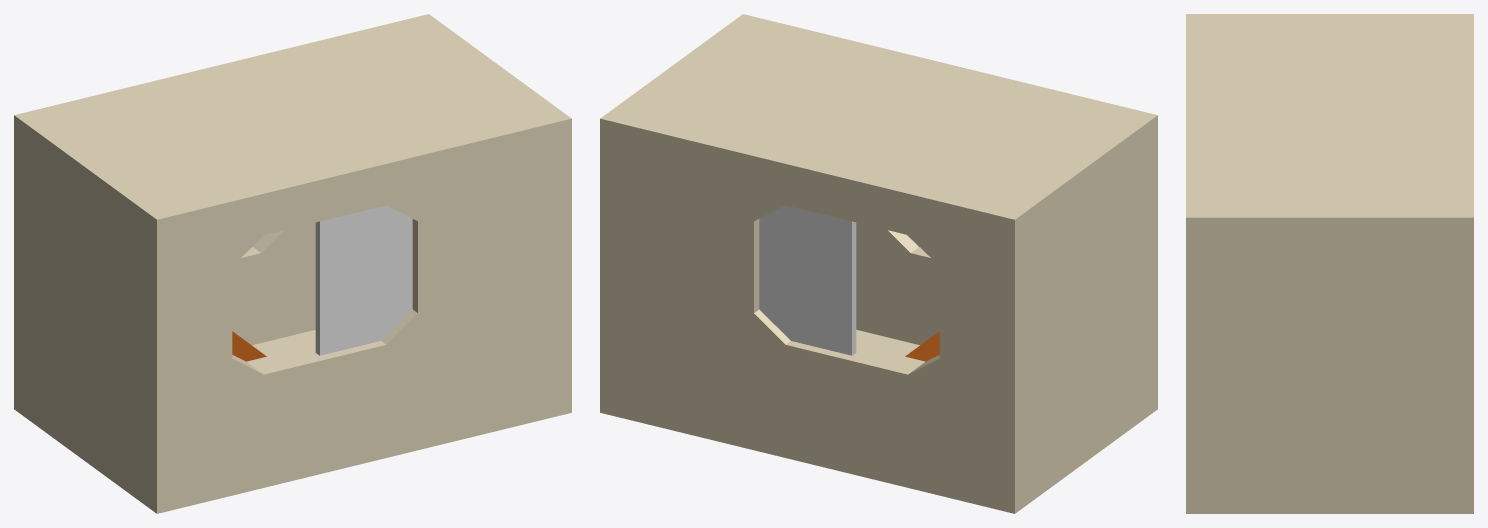
Rendered from VentanillaTaduralacosa.fbx.
3 views of the same model, side by side, from view 1: azimuth 30°, elevation 25°; view 2: azimuth 150°, elevation 25°; view 3: azimuth 270°, elevation 25° (orthographic).
Visible parts, largest first — view 1: Cube.001, Cube.004; view 2: Cube.001, Cube.004; view 3: Cube.001.
Boxes of the visible parts, left/top/right/bottom form: Cube.001: left=14, top=14, right=571, bottom=513; Cube.004: left=252, top=205, right=412, bottom=355; Cube.001: left=600, top=14, right=1157, bottom=513; Cube.004: left=759, top=205, right=919, bottom=355; Cube.001: left=1186, top=14, right=1473, bottom=513.
Bounding box in the file's own units: 1228 × 832 × 733.
